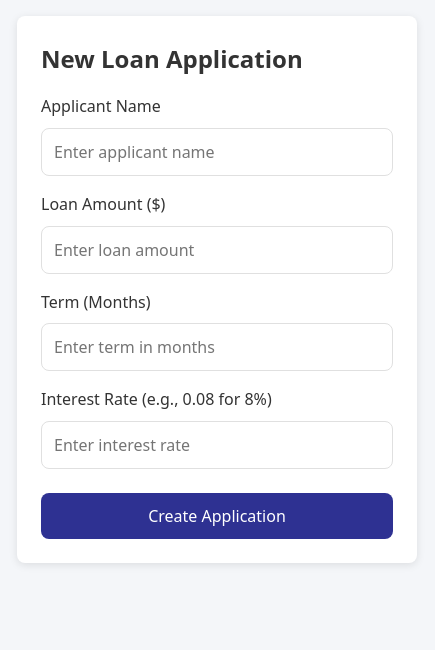
Test: LoanForm › shows service error when creation fails with Error
This screenshot has width=435, height=650.
Type "Jane Doe" into the field with id "applicantName" at x=217, y=152, box [41,128,393,176]
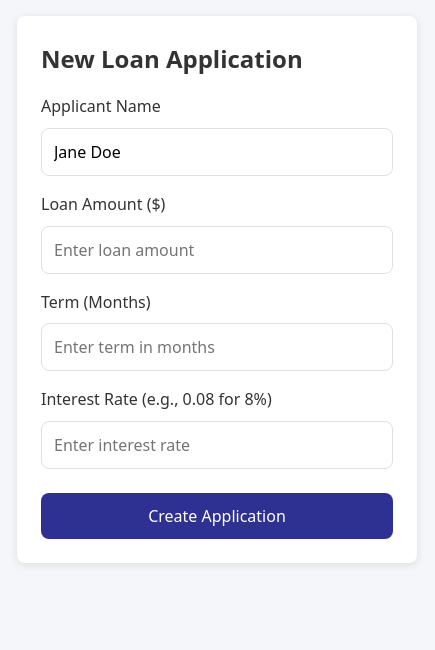
Type "50000" into the number field with id "amount" at x=217, y=250, box [41,226,393,274]
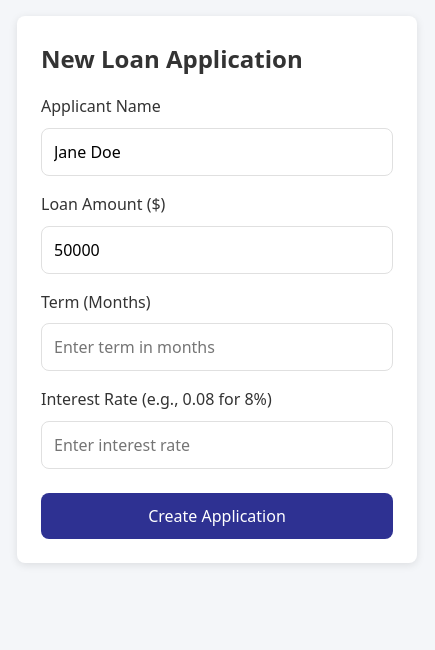
Type "24" into the number field with id "termMonths" at x=217, y=347, box [41,323,393,371]
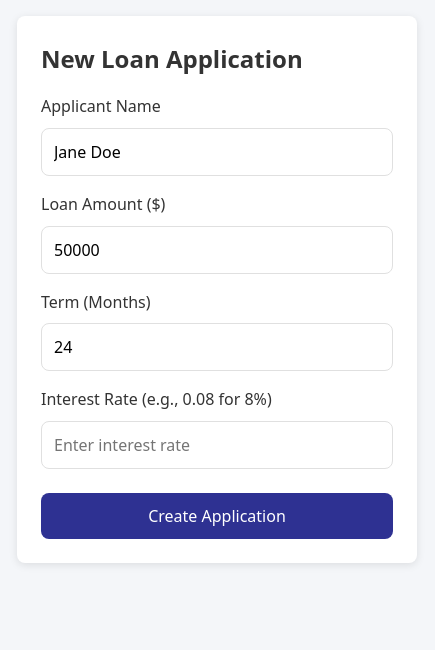
Type "0.08" into the number field with id "interestRate" at x=217, y=445, box [41,421,393,469]
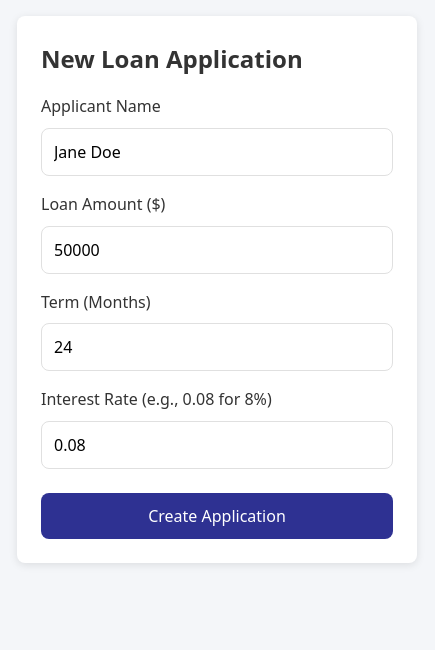
Submit the form, box [41,94,393,539]
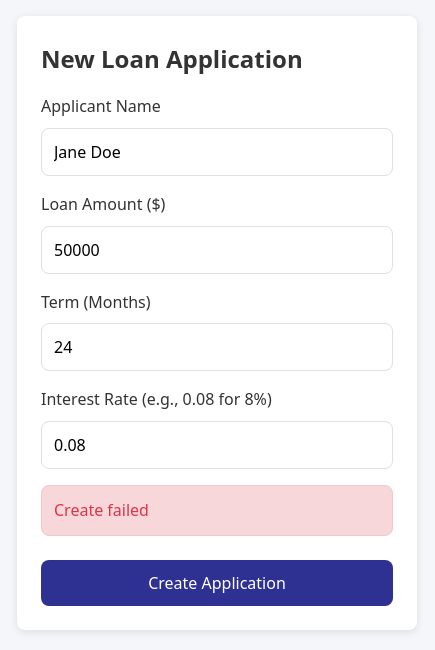
Check: the text "Create failed" is shown, box [41,485,393,536]
